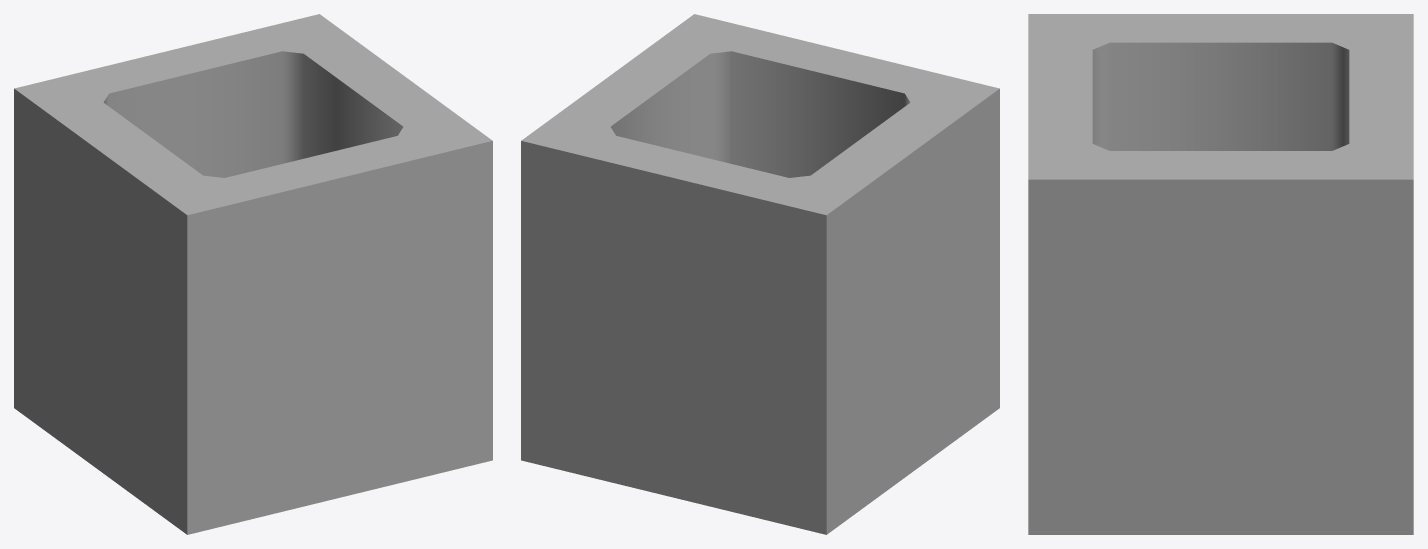
Rendered from 8f55fd08-decf-4b74-9793-50aaafaa84cd.glb.
3 views of the same model, side by side, from view 1: azimuth 30°, elevation 25°; view 2: azimuth 150°, elevation 25°; view 3: azimuth 270°, elevation 25° (orthographic). The views are drawn at different scales.
Visible parts, largest first — view 1: CMU-half; view 2: CMU-half; view 3: CMU-half.
Part boxes in pixels (x1=…): CMU-half: x1=14, y1=14, x2=492, y2=534; CMU-half: x1=521, y1=14, x2=999, y2=534; CMU-half: x1=1028, y1=14, x2=1413, y2=534.
Size of what is drawn, in the model's own units: 0.2 by 0.2 by 0.1964.
1 material, 1 textured.
